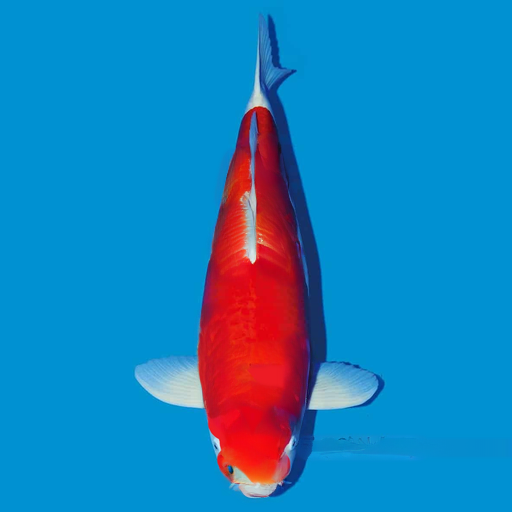red: (135, 15, 383, 499)
